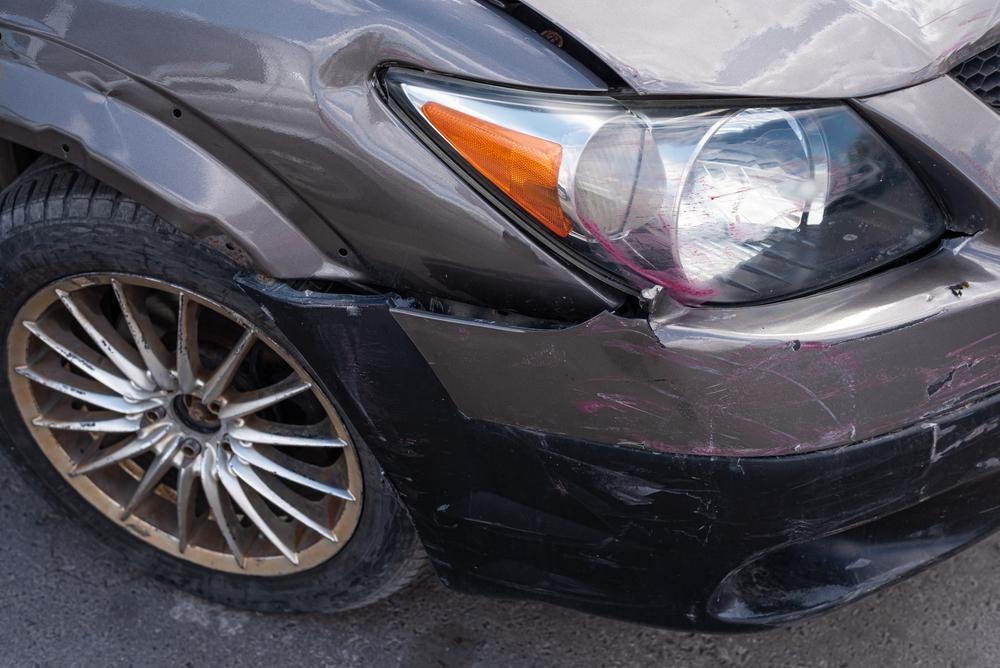crack: (946, 226, 990, 239)
dent: (316, 27, 485, 218)
scratch: (576, 306, 1000, 505)
